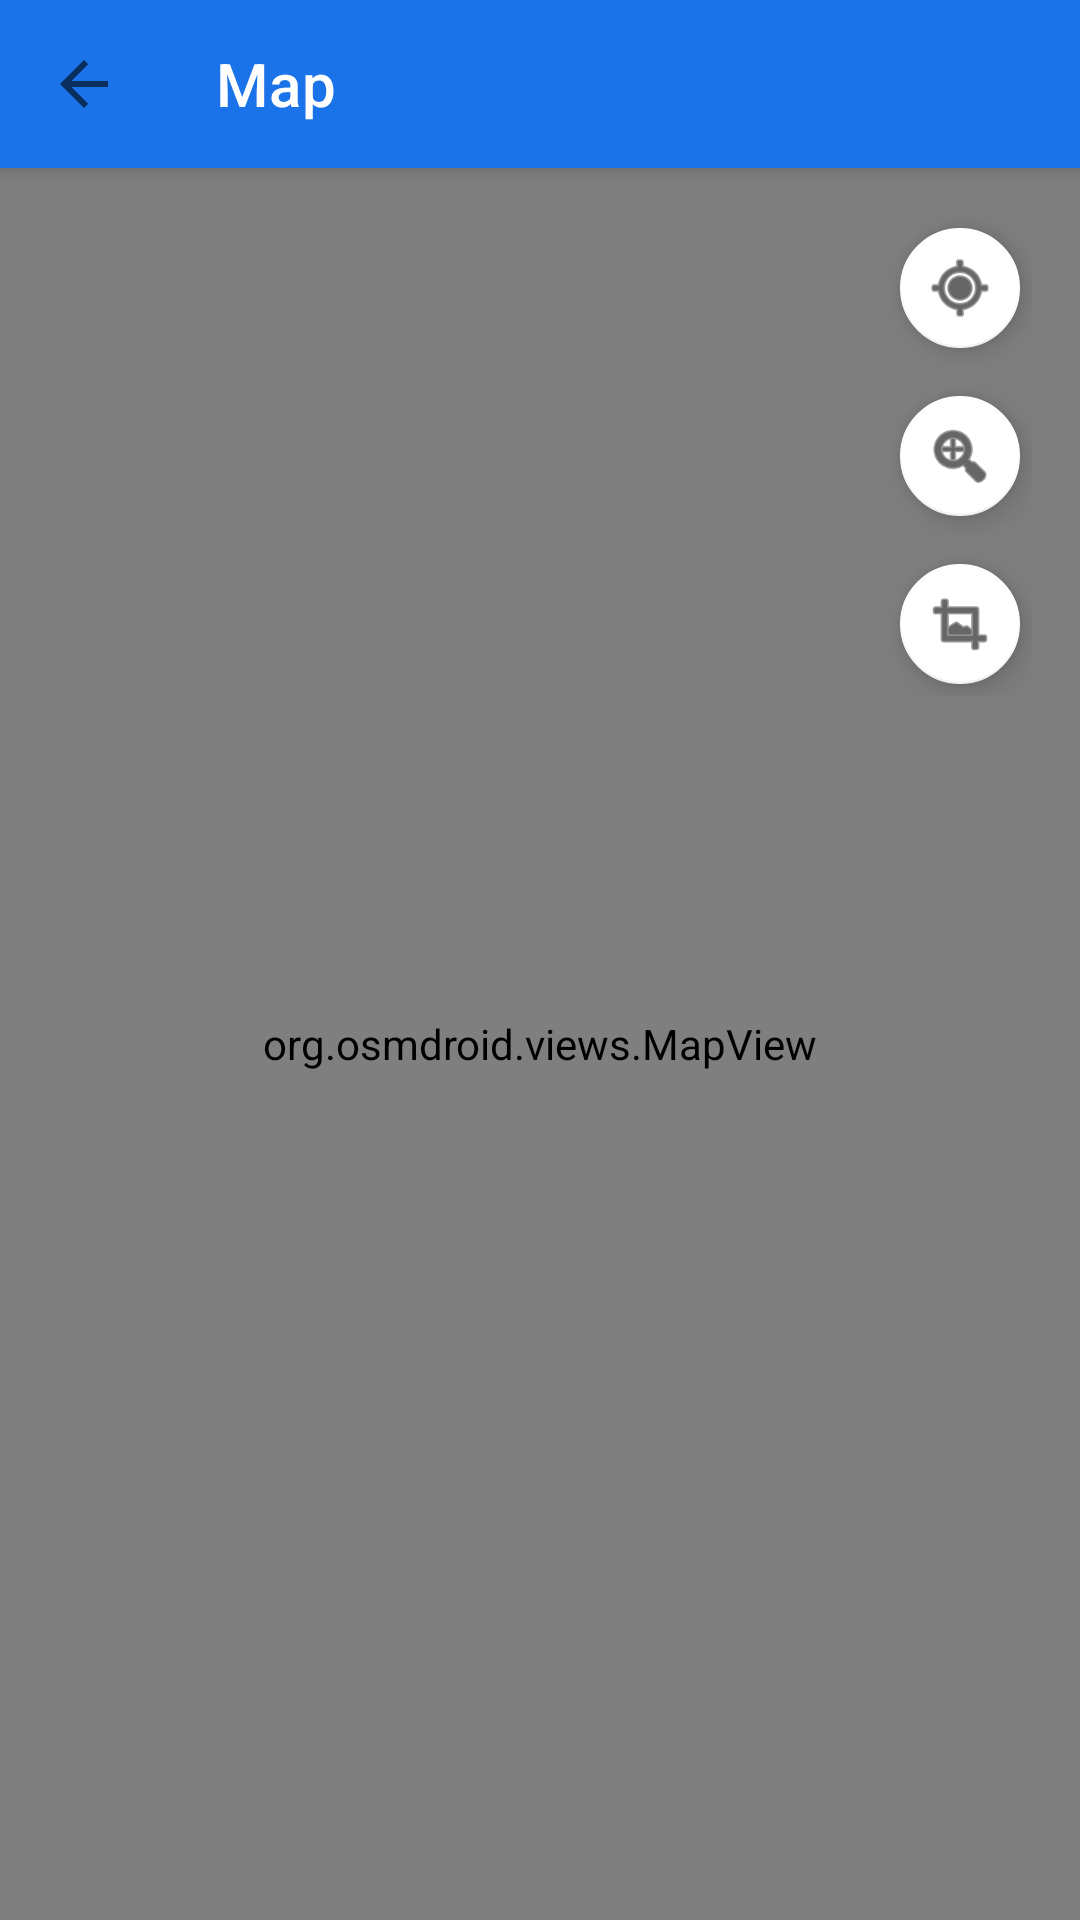

Point at icon controls on the screen. Image size 1080x1920, points as point (x, y).
My Location: point (960, 288)
Zoom In: point (960, 456)
